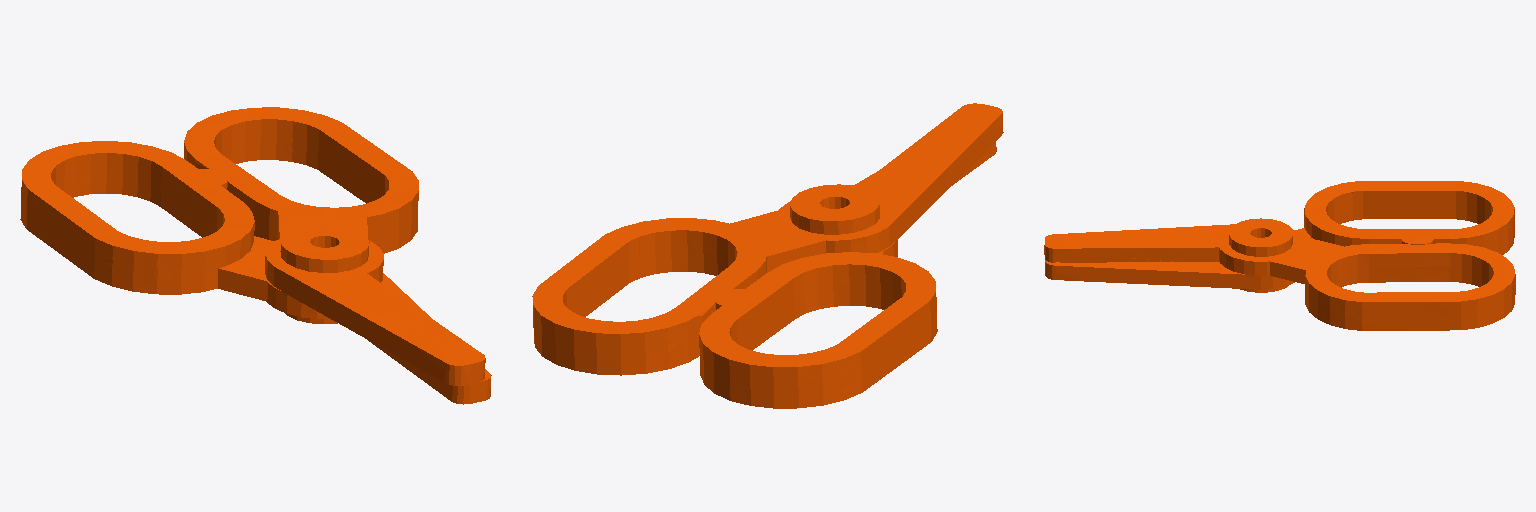
robot.urdf — scissors:
<?xml version="1.0" ?>
<robot name="scissors">
   <material name="obj_color">
      <color rgba="1.0 0.423529411765 0.0392156862745 1.0"/>
   </material>
   <link name="top">
      <inertial>
         <origin rpy="1.569151566397336e-05 5.511171978147023e-05 7.001182694572592e-05" xyz="0.0001112002822347624 0.01268078681393561 -0.0003275655213691307"/>
         <mass value="0.05063805161785918"/>
         <inertia ixx="5.512699001633302e-05" ixy="4.509773936126412e-07" ixz="5.507252986832145e-07" iyy="1.569671719968618e-05" iyz="5.530412339756379e-08" izz="6.999135517515032e-05"/>
      </inertial>
      <visual>
         <origin rpy="0 0 0" xyz="0 0 0"/>
         <geometry>
            <mesh filename="top_watertight_tiny.stl" scale="1 1 1"/>
         </geometry>
         <material name="obj_color"/>
      </visual>
      <collision>
         <origin rpy="0 0 0" xyz="0 0 0"/>
         <geometry>
            <mesh filename="top_watertight_tiny.obj" scale="1 1 1"/>
         </geometry>
      </collision>
   </link>
   <link name="bottom">
      <inertial>
         <origin rpy="1.633333333194242e-08 1.633333333194243e-08 1.633333333357667e-08" xyz="0.3464080000000008 0.3464080000000008 0.3464080000000008"/>
         <mass value="0.0009800000000000017"/>
         <inertia ixx="1.633333333248717e-08" ixy="5.447480642029219e-19" ixz="5.447480642029219e-19" iyy="1.633333333248717e-08" iyz="5.447480642029219e-19" izz="1.633333333248717e-08"/>
      </inertial>
      <visual>
         <origin rpy="0 0 0" xyz="0 0 0"/>
         <geometry>
            <mesh filename="bottom_watertight_tiny.stl" scale="1 1 1"/>
         </geometry>
         <material name="obj_color"/>
      </visual>
   </link>
   <link name="world"/>
   <joint name="world_to_base" type="fixed">
      <origin xyz="0 0 0"/>
      <axis xyz="0 0 0"/>
      <parent link="world"/>
      <child link="bottom"/>
   </joint>
   <joint name="rotation" type="revolute">
      <origin xyz="0 0 0"/>
      <axis xyz="0 0 -1"/>
      <parent link="bottom"/>
      <child link="top"/>
      <dynamics damping="1.0" friction="1.0"/>
      <limit effort="0.1" velocity="0.1" lower="0" upper="0.001"/>
   </joint>
</robot>

--- What the picture shows (computed from the rendered views, not written in the file) ---
The picture shows the robot from 3 angles, left to right: view 1: azimuth 30°, elevation 25°; view 2: azimuth 150°, elevation 25°; view 3: azimuth 270°, elevation 25°; orthographic projection.
Robot: scissors — 3 links, 2 joints (1 revolute, 1 fixed); root link world; default pose: all joints at 0.
Visible links, largest first — view 1: top; view 2: top; view 3: top.
Link boxes in pixels (x1,y1,x2,y2): top: [20, 107, 491, 404]; top: [532, 103, 1003, 408]; top: [1044, 181, 1515, 330].
Bounding box of the posed robot: 0.0741 × 0.13 × 0.0145 m (x, y, z).
Meshes: 2 distinct files referenced, 1 mesh visuals loaded (1 binary STL); not drawn: 1 (reference not matched to a file when rendering).
